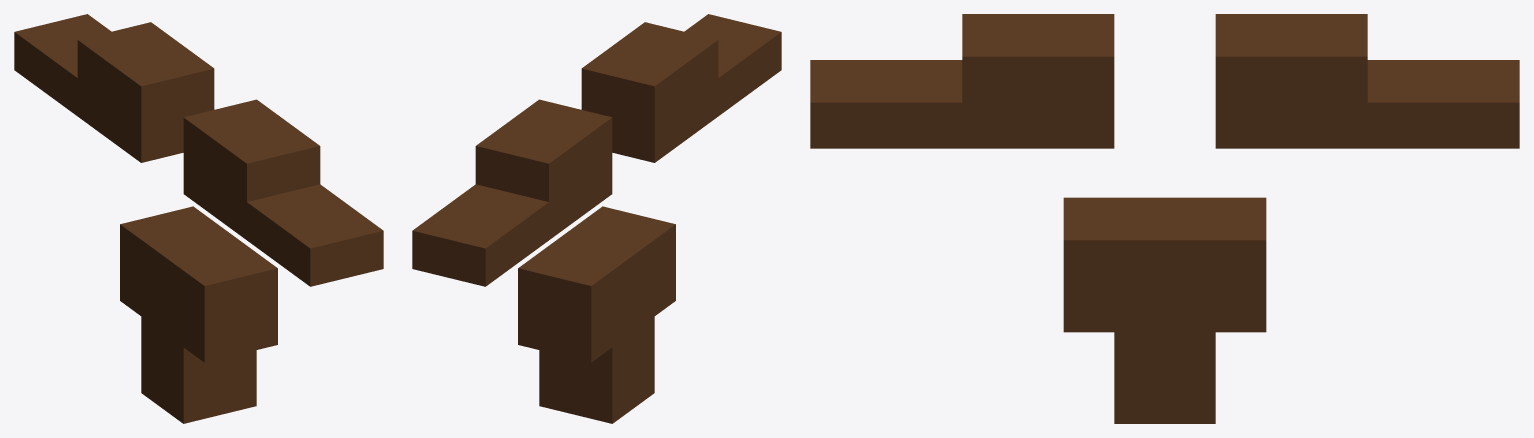
Rendered from av_beard_goatee.glb.
3 renders of one model, left to right at view 1: azimuth 30°, elevation 25°; view 2: azimuth 150°, elevation 25°; view 3: azimuth 270°, elevation 25°, orthographic. The views are drawn at different scales.
Parts seen in each view (by area): view 1: model; view 2: model; view 3: model.
Boxes of the visible parts, <box> form: model: <box>14,14,383,423</box>; model: <box>412,14,781,423</box>; model: <box>810,14,1519,423</box>.
Size of the model in its own units: 0.02 by 0.08 by 0.14.
